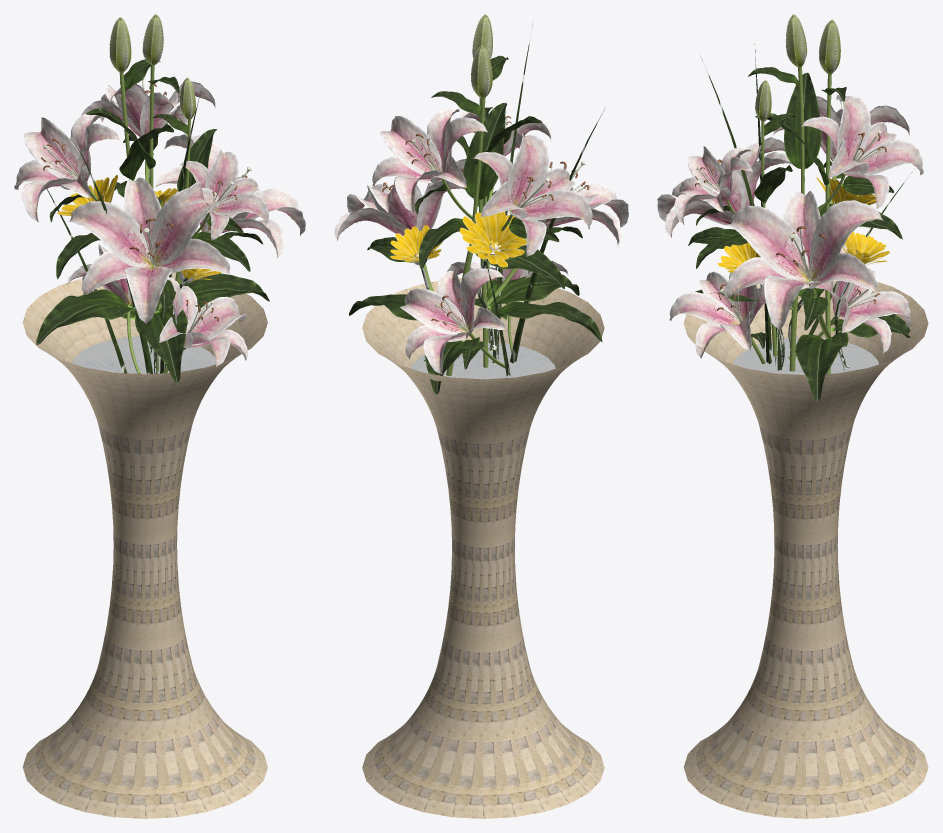
File: Vase.dae
3 renders of one model, left to right at view 1: azimuth 30°, elevation 25°; view 2: azimuth 150°, elevation 25°; view 3: azimuth 270°, elevation 25°, orthographic.
Visible parts, largest first — view 1: SketchUp (×2), Component_7 (×19), Component_4 (×10), Component_20; view 2: SketchUp (×2), Component_7 (×15), Component_4 (×8), Component_20; view 3: SketchUp (×2), Component_7 (×17), Component_4 (×4), Component_20 (×2), Component_12.
Part boxes in pixels (x1,y1,x2,y2): SketchUp (×2): (22,272,267,818); Component_7 (×19): (21,92,300,333); Component_4 (×10): (36,128,269,383); Component_20: (73,137,153,374); SketchUp (×2): (362,278,604,818); Component_7 (×15): (337,108,592,374); Component_4 (×8): (419,102,602,394); Component_20: (510,109,604,363); SketchUp (×2): (683,280,928,818); Component_7 (×17): (670,96,922,330); Component_4 (×4): (784,72,848,401); Component_20 (×2): (701,44,781,370); Component_12: (798,67,804,194).
Size of the model in its own units: 7.39 by 6.64 by 20.42.
